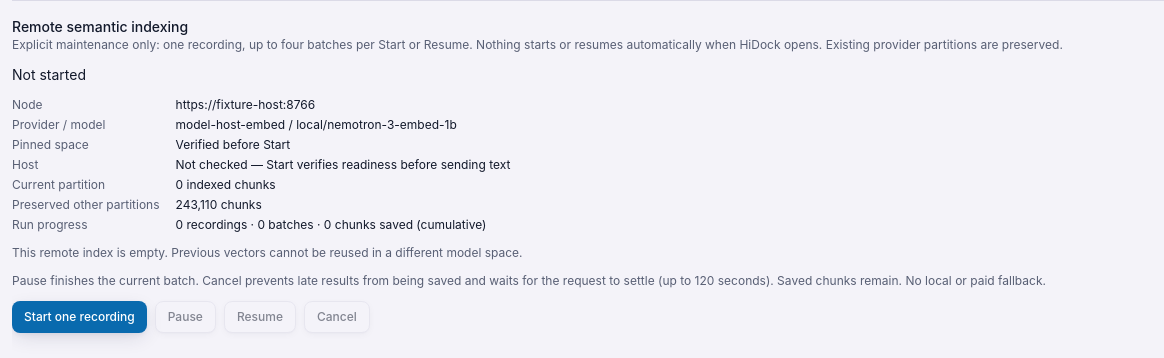
Scenario: starts only an explicit one-recording four-batch request and displays returned state
expect the text "Not started" is shown: met, box [12, 66, 86, 83]
Click the button "Start one recording" at (79, 317), box [12, 301, 147, 333]
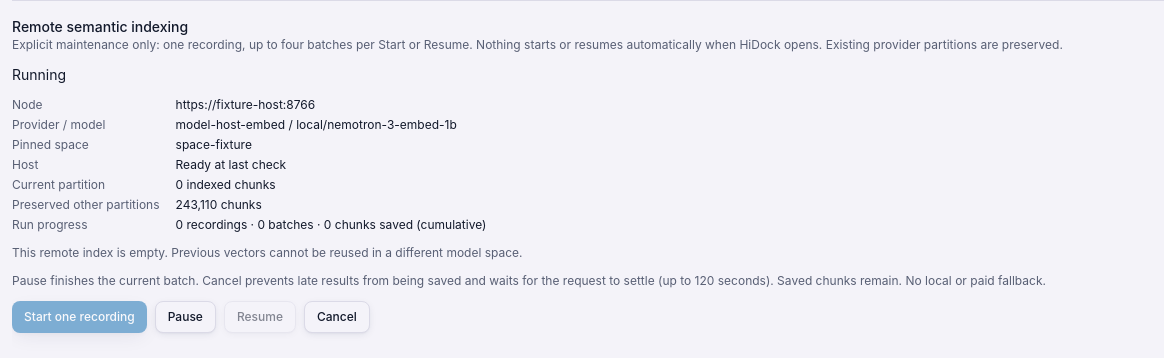
expect the text "Running" is shown: met, box [12, 66, 66, 83]
expect the text "Ready at last check" is shown: met, box [176, 157, 286, 172]
